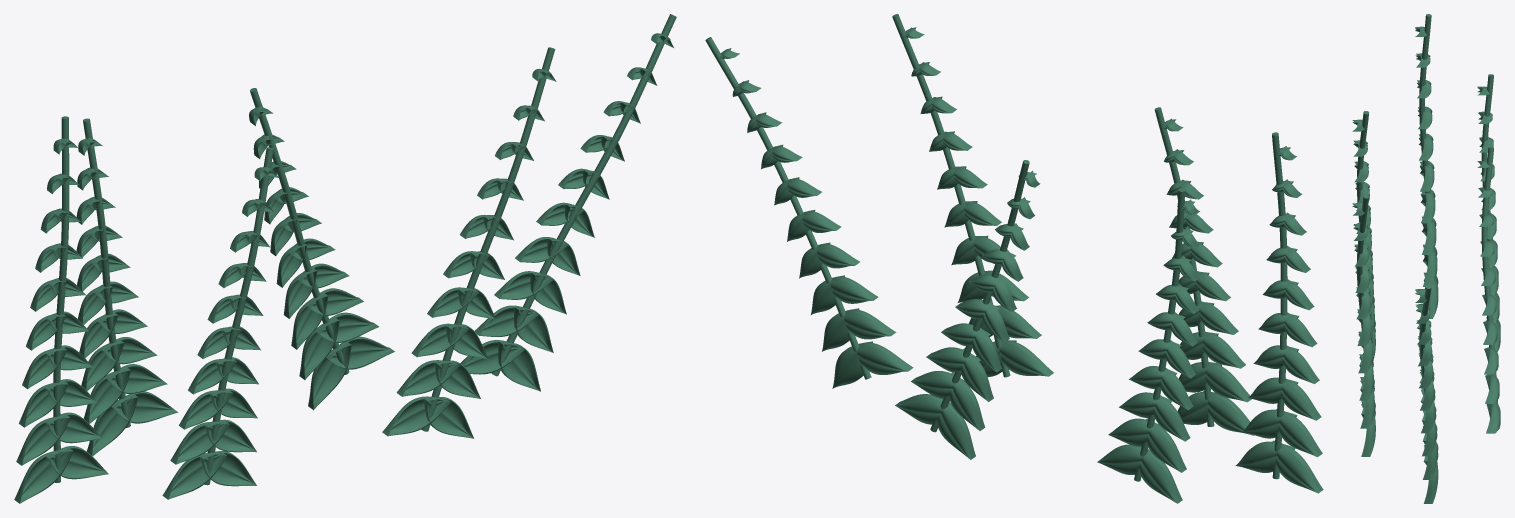
3 views of the same model, side by side, from view 1: azimuth 30°, elevation 25°; view 2: azimuth 150°, elevation 25°; view 3: azimuth 270°, elevation 25° (orthographic). The views are drawn at different scales.
Parts seen in each view (by area): view 1: fern-stem (×6), leaflet-0--1 (×6), leaflet-1--1 (×6), leaflet-0-1 (×6), leaflet-1-1 (×6), leaflet-2--1 (×6), leaflet-2-1 (×6), leaflet-3--1 (×6); view 2: fern-stem (×6), leaflet-0--1 (×6), leaflet-1--1 (×6), leaflet-0-1 (×5), leaflet-2--1 (×5), leaflet-3--1 (×5), leaflet-1-1 (×4), leaflet-2-1 (×2); view 3: fern-stem (×6), leaflet-1-1 (×4), leaflet-0-1 (×4), leaflet-2-1 (×4), leaflet-3-1 (×4), leaflet-4-1 (×4), leaflet-5-1 (×4), leaflet-6-1 (×3).
Boxes of the visible parts, x1,y1,x2,y2 form: fern-stem (×6): (53, 14, 676, 485); leaflet-0--1 (×6): (14, 340, 524, 503); leaflet-1--1 (×6): (16, 305, 538, 465); leaflet-0-1 (×6): (46, 336, 540, 486); leaflet-1-1 (×6): (45, 307, 553, 452); leaflet-2--1 (×6): (19, 271, 552, 429); leaflet-2-1 (×6): (45, 273, 566, 418); leaflet-3--1 (×6): (22, 237, 568, 394); fern-stem (×6): (705, 14, 1287, 481); leaflet-0--1 (×6): (856, 340, 1323, 503); leaflet-1--1 (×6): (844, 305, 1322, 472); leaflet-0-1 (×5): (832, 341, 1295, 474); leaflet-2--1 (×5): (830, 276, 1321, 441); leaflet-3--1 (×5): (816, 243, 1319, 410); leaflet-1-1 (×4): (822, 308, 1297, 446); leaflet-2-1 (×2): (926, 347, 1171, 417); fern-stem (×6): (1356, 14, 1499, 428); leaflet-1-1 (×4): (1360, 244, 1499, 479); leaflet-0-1 (×4): (1361, 272, 1500, 503); leaflet-2-1 (×4): (1359, 216, 1498, 456); leaflet-3-1 (×4): (1358, 191, 1497, 433); leaflet-4-1 (×4): (1357, 161, 1496, 410); leaflet-5-1 (×4): (1356, 134, 1495, 388); leaflet-6-1 (×3): (1355, 107, 1432, 366).
Bounding box in the file's own units: 5.43 × 3.06 × 1.34.
